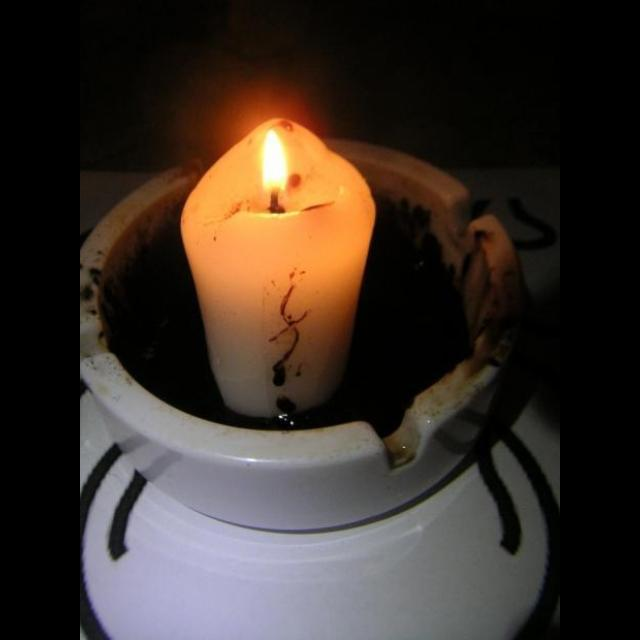blood: (82, 198, 471, 438), (460, 253, 471, 289)
